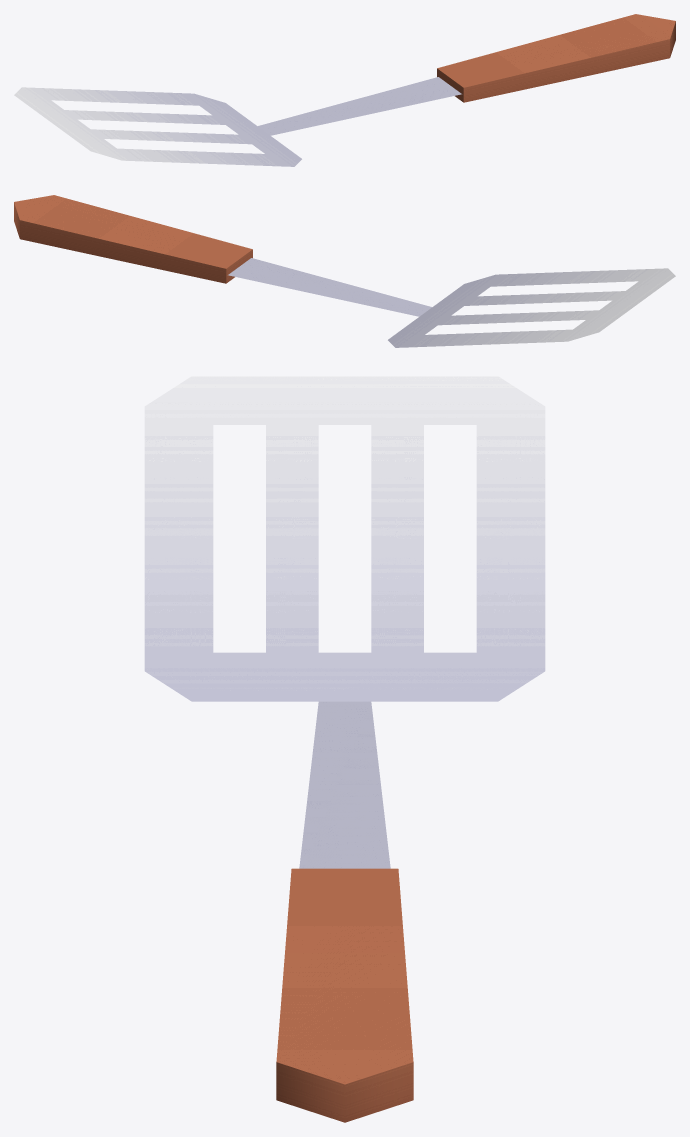
The model's file is cooking-spatula.glb.
The picture shows the model from 3 angles, top to bottom: view 1: azimuth 30°, elevation 25°; view 2: azimuth 150°, elevation 25°; view 3: azimuth 270°, elevation 25°; orthographic projection. The views are drawn at different scales.
Parts seen in each view (by area): view 1: cooking-spatula; view 2: cooking-spatula; view 3: cooking-spatula.
Part boxes in pixels (<box>): cooking-spatula: <box>14,14,675,166</box>; cooking-spatula: <box>14,195,675,347</box>; cooking-spatula: <box>144,376,545,1122</box>.
Bounding box in the file's own units: 0.6827 × 0.0721 × 0.19.
Materials: 1 (1 with a texture image).
